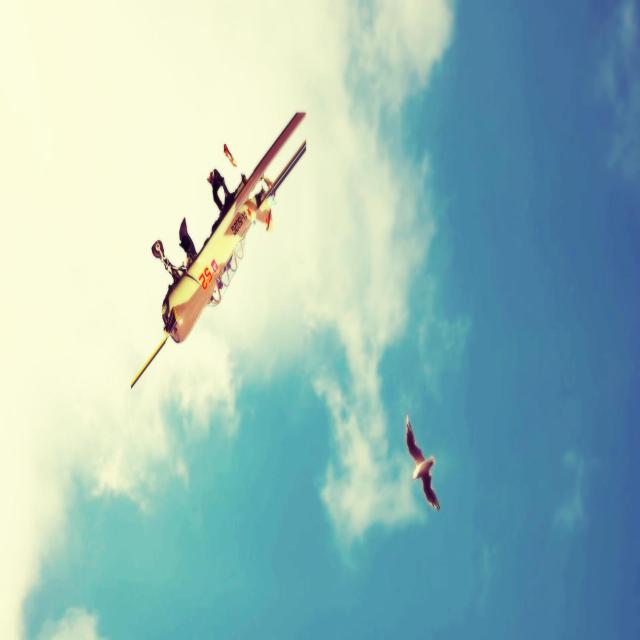airplane: (130, 109, 307, 389)
